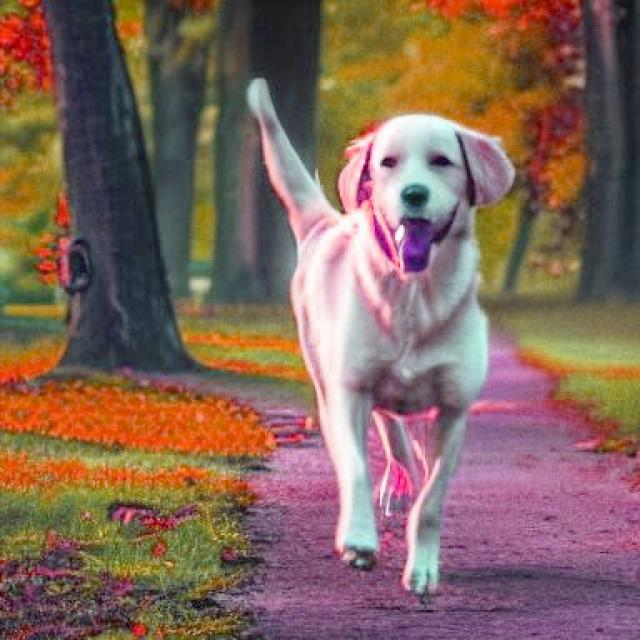Dog: (245, 78, 516, 598)
